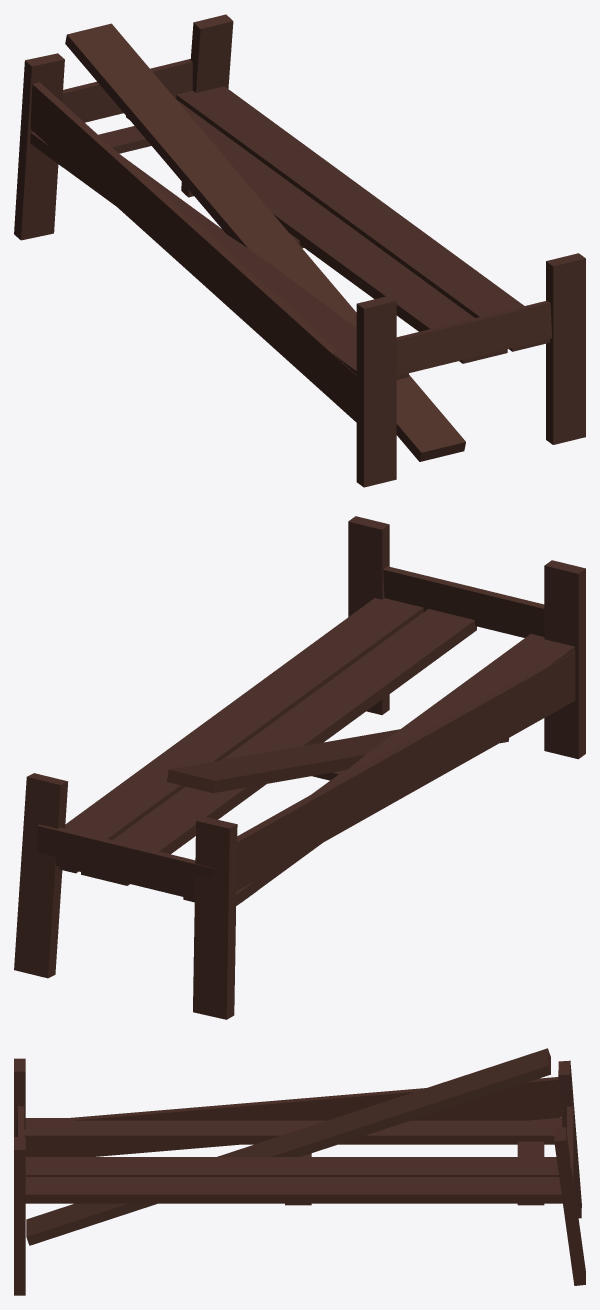
Rendered from SM_BedBroken.fbx.
3 views of the same model, one above another, from view 1: azimuth 30°, elevation 25°; view 2: azimuth 150°, elevation 25°; view 3: azimuth 270°, elevation 25° (orthographic). The views are drawn at different scales.
Parts seen in each view (by area): view 1: BedBroken; view 2: BedBroken; view 3: BedBroken.
Part boxes in pixels (x1=…): BedBroken: x1=14, y1=14, x2=585, y2=487; BedBroken: x1=14, y1=516, x2=585, y2=1019; BedBroken: x1=14, y1=1048, x2=585, y2=1295.
Size of the model in its own units: 5.01 by 4.49 by 13.58.
